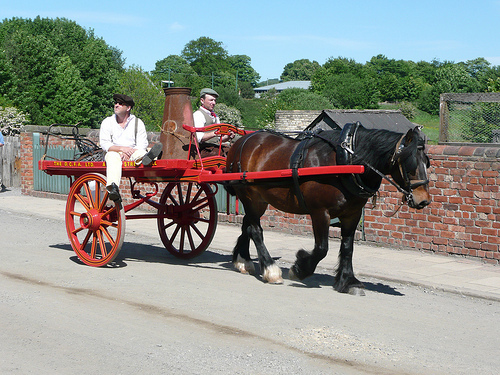horse: (221, 120, 432, 295)
